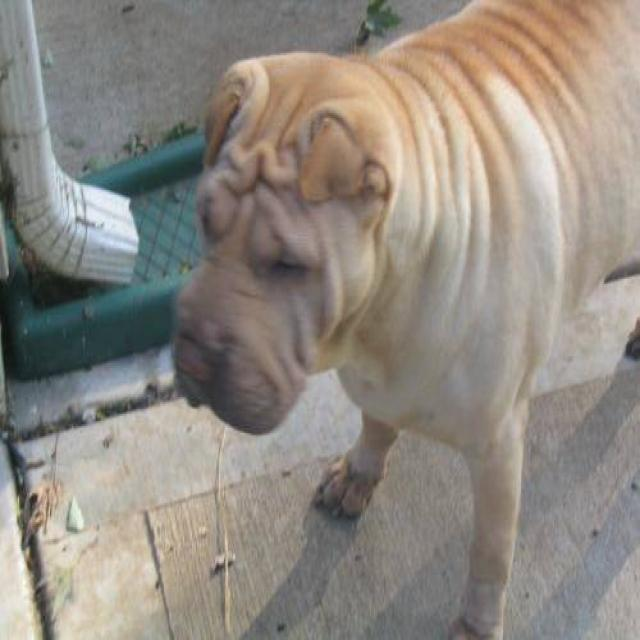dog: (169, 0, 639, 638)
